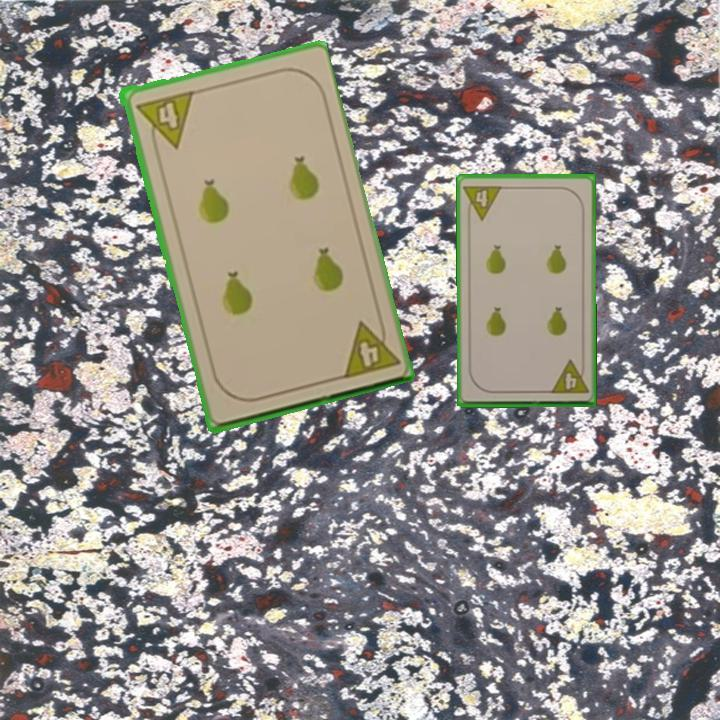4p: (338, 312, 402, 381), (131, 87, 195, 154), (460, 181, 505, 223), (547, 357, 591, 396)
